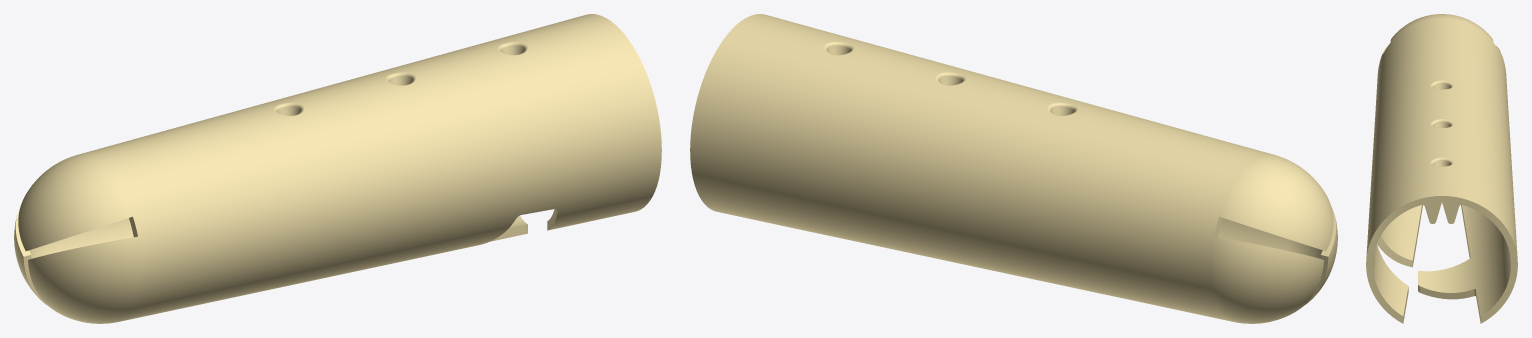
File: Puntera_Laton_Importada.glb
3 views of the same model, side by side, from view 1: azimuth 30°, elevation 25°; view 2: azimuth 150°, elevation 25°; view 3: azimuth 270°, elevation 25° (orthographic). The views are drawn at different scales.
Parts seen in each view (by area): view 1: TRPR Puntera Troquelada Redonda Importada V1; view 2: TRPR Puntera Troquelada Redonda Importada V1; view 3: TRPR Puntera Troquelada Redonda Importada V1.
Part boxes in pixels (bbox=[...]): TRPR Puntera Troquelada Redonda Importada V1: bbox=[14, 14, 661, 323]; TRPR Puntera Troquelada Redonda Importada V1: bbox=[690, 14, 1337, 323]; TRPR Puntera Troquelada Redonda Importada V1: bbox=[1366, 14, 1517, 323].
Size of the model in its own units: 0.0183 by 0.00543 by 0.0055.
